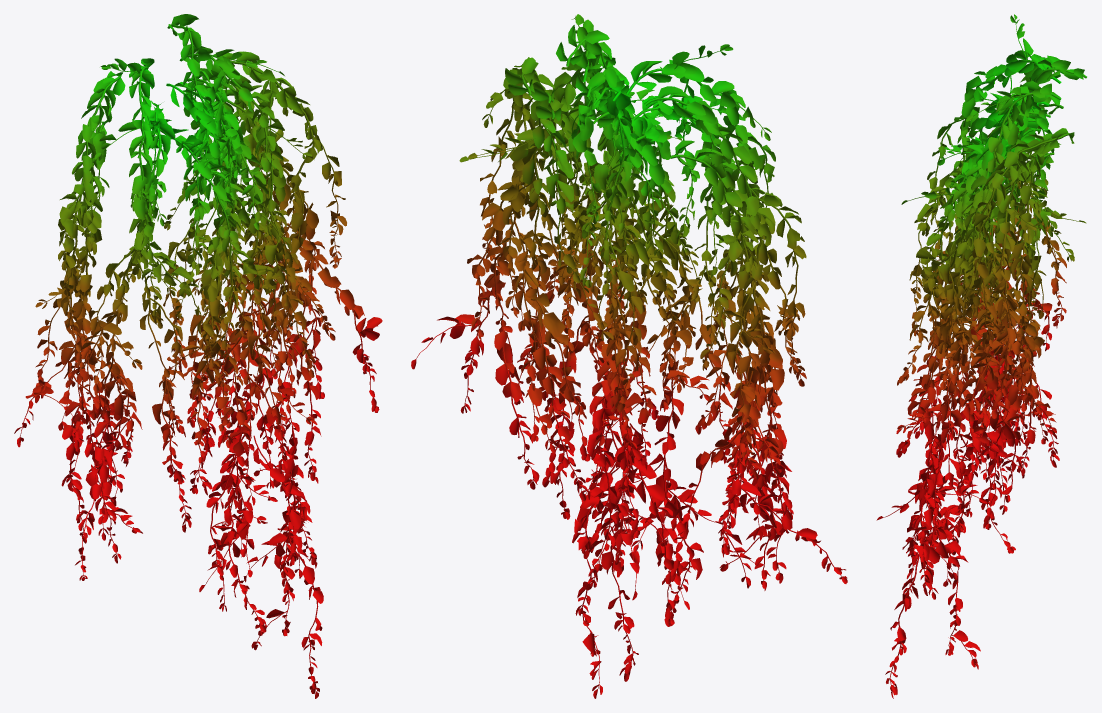
Rendered from Var1_LOD1.fbx.
3 views of the same model, side by side, from view 1: azimuth 30°, elevation 25°; view 2: azimuth 150°, elevation 25°; view 3: azimuth 270°, elevation 25° (orthographic). The views are drawn at different scales.
Visible parts, largest first — view 1: _12h0_Var1_LOD1; view 2: _12h0_Var1_LOD1; view 3: _12h0_Var1_LOD1.
Boxes of the visible parts, bbox=[...] form: _12h0_Var1_LOD1: bbox=[14, 14, 382, 698]; _12h0_Var1_LOD1: bbox=[411, 14, 847, 698]; _12h0_Var1_LOD1: bbox=[876, 14, 1086, 698].
Bounding box in the file's own units: 144 × 255 × 78.81.
